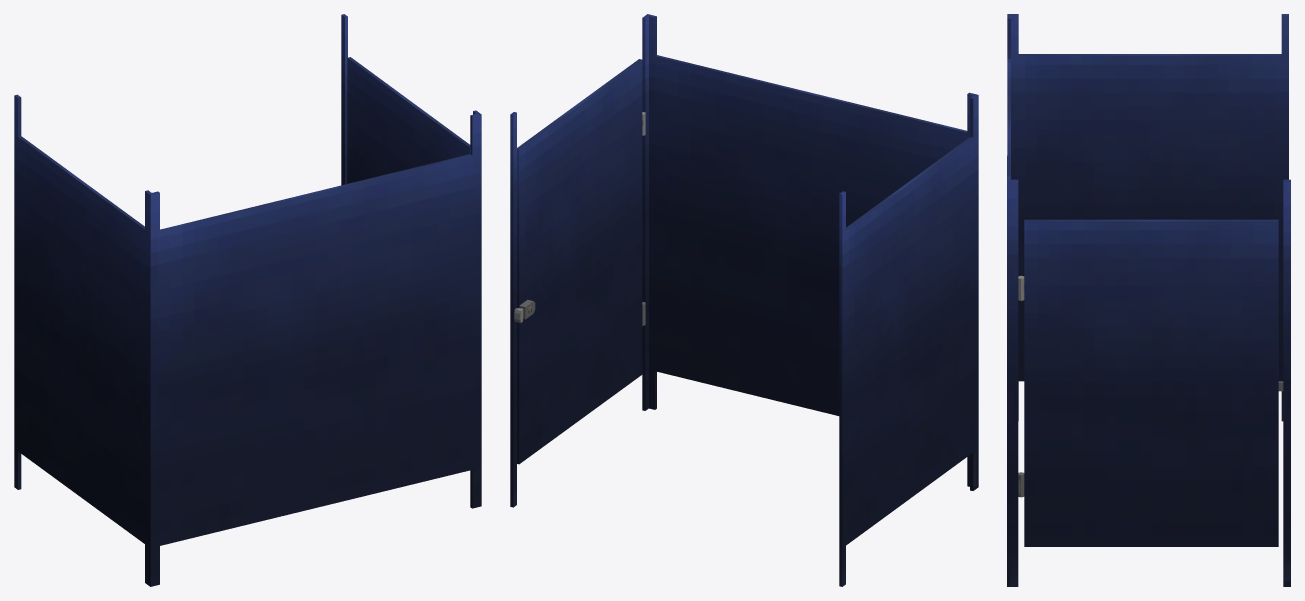
The model's file is stall_closed_L.obj.
3 renders of one model, left to right at view 1: azimuth 30°, elevation 25°; view 2: azimuth 150°, elevation 25°; view 3: azimuth 270°, elevation 25°, orthographic. The views are drawn at different scales.
Parts seen in each view (by area): view 1: stall_closed_L; view 2: stall_closed_L; view 3: stall_closed_L.
Boxes of the visible parts, x1,y1,x2,y2 form: stall_closed_L: [14, 14, 481, 586]; stall_closed_L: [510, 14, 978, 586]; stall_closed_L: [1007, 14, 1290, 586].
Size of the model in its own units: 2.13 by 2.4 by 1.52.
